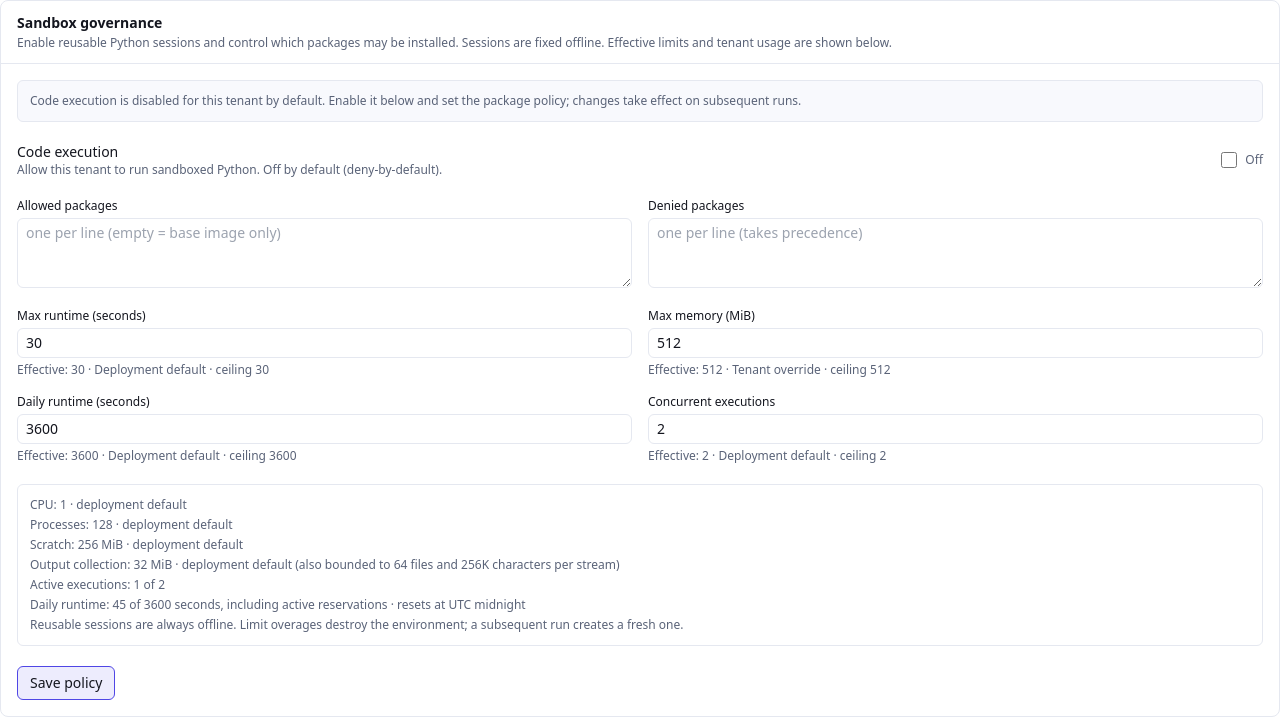
it: SandboxGovernancePanel › saves the full policy body when enabling + setting a package (AC-1)
Click the switch named "enable code execution" at (1229, 160), box [1221, 152, 1237, 168]
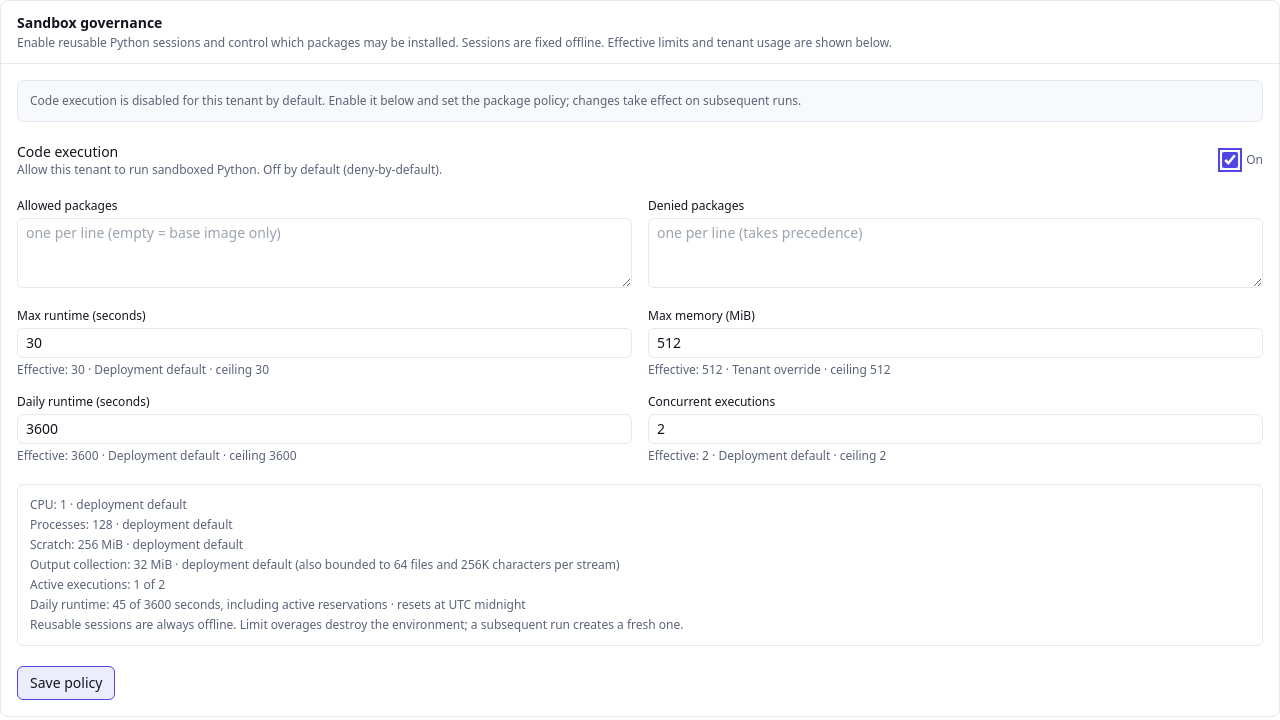
Type "numpy" into the text box labelled "Allowed packages" at (324, 253), box [17, 218, 632, 288]
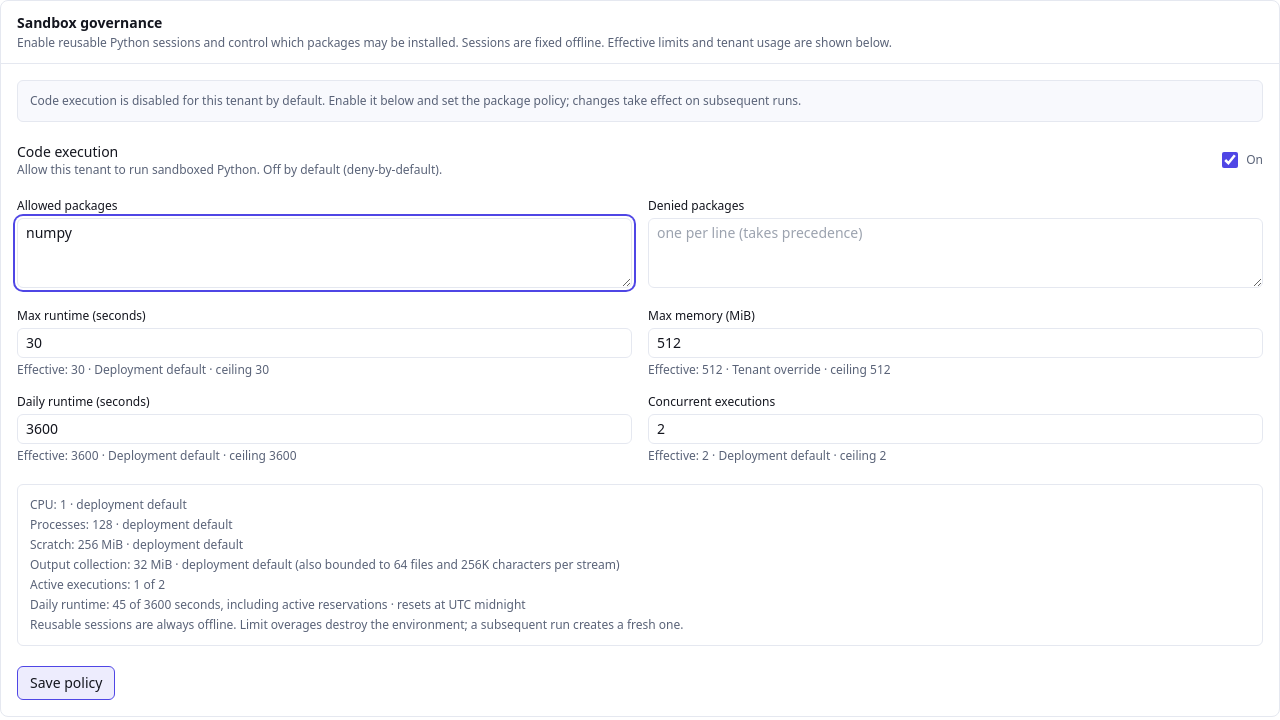
Click the button "Save policy" at (66, 683), box [17, 666, 115, 700]
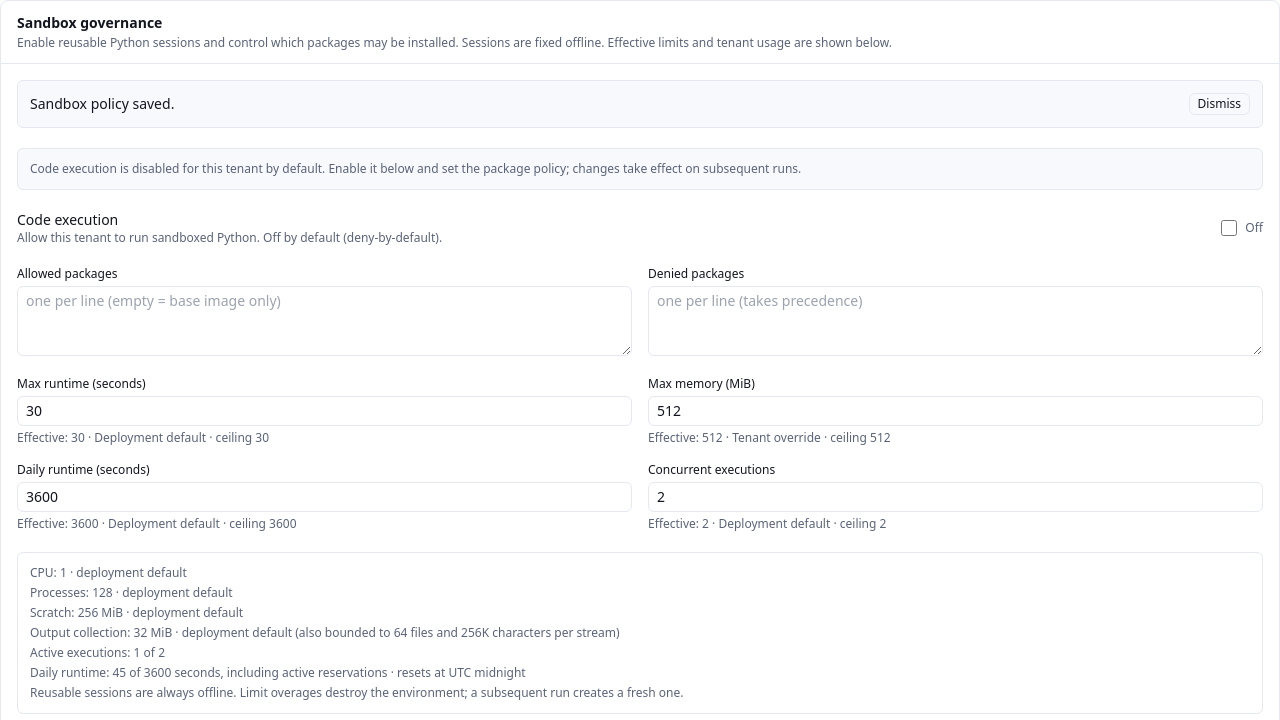
Expected: the text "Sandbox policy saved." is shown, [30, 94, 174, 114]
